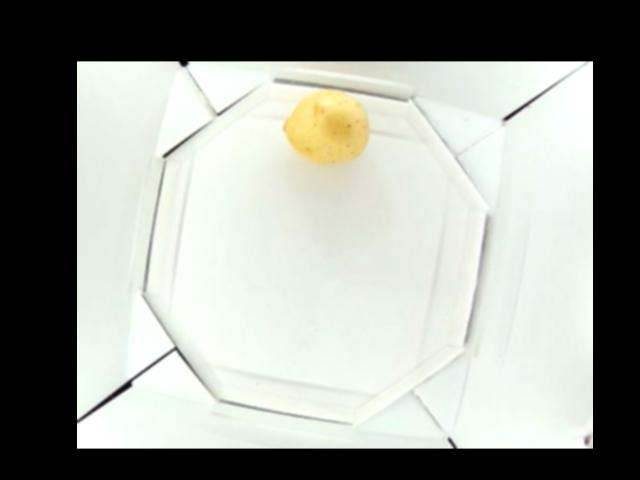Potato: (280, 92, 368, 162)
